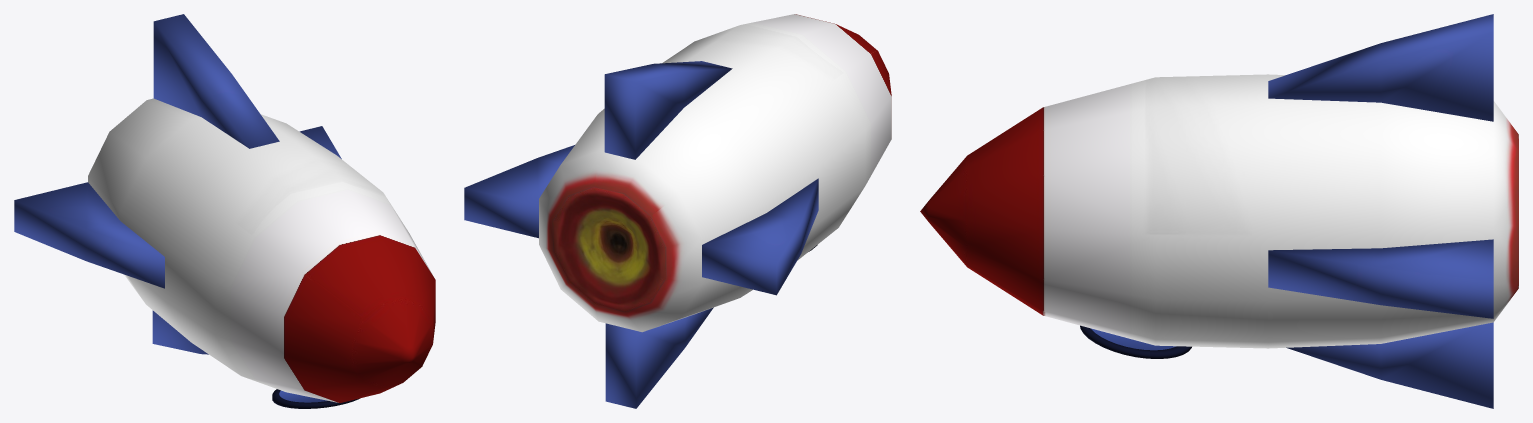
File: spaceshipv2.gltf
3 views of the same model, side by side, from view 1: azimuth 30°, elevation 25°; view 2: azimuth 150°, elevation 25°; view 3: azimuth 270°, elevation 25° (orthographic). The views are drawn at different scales.
Parts seen in each view (by area): view 1: body, wing, Circle; view 2: body, wing; view 3: body, wing, Circle.
Part boxes in pixels (left/top/right/bottom): body: left=88, top=98, right=435, bottom=402; wing: left=14, top=14, right=341, bottom=354; Circle: left=272, top=389, right=359, bottom=408; body: left=539, top=14, right=891, bottom=332; wing: left=464, top=61, right=818, bottom=408; body: left=920, top=74, right=1518, bottom=348; wing: left=1268, top=14, right=1493, bottom=408; Circle: left=1080, top=325, right=1191, bottom=358.
Size of the model in its own units: 7.03 by 7.03 by 10.09.
3 materials, 3 textured.
